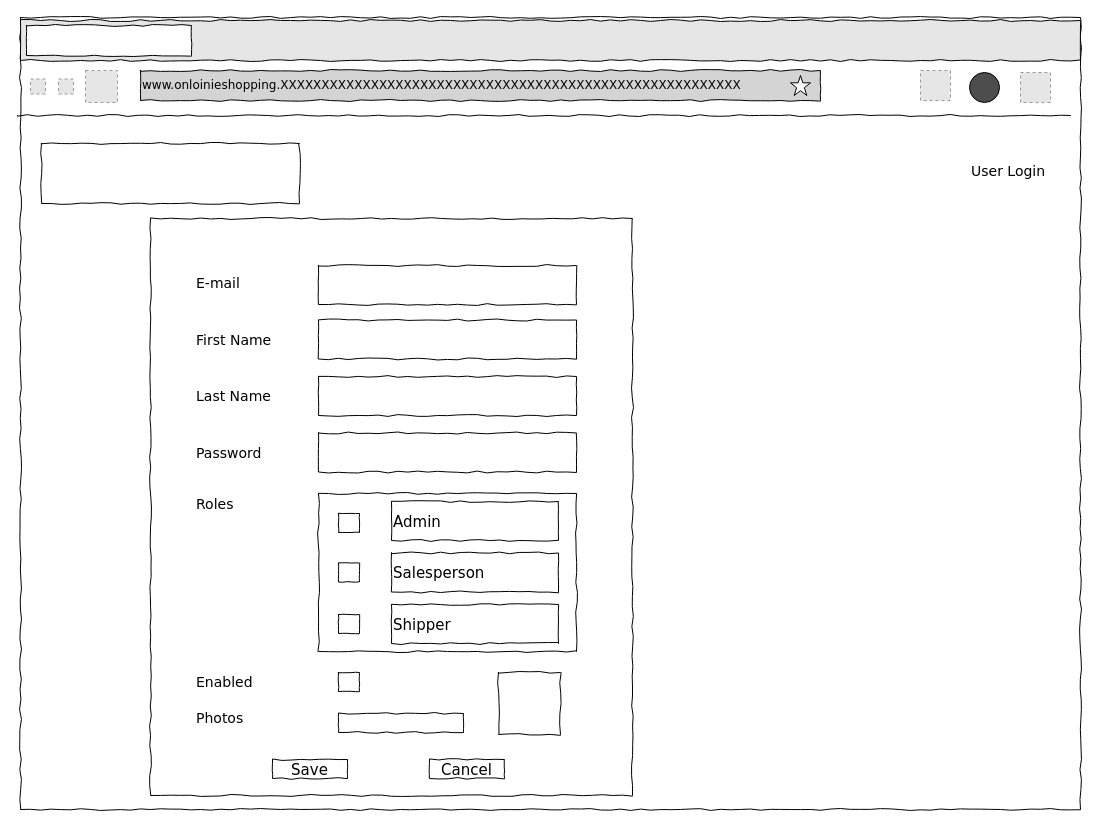
The diagram is 1098 pixels wide and 827 high, and some of its shapes have lost their labels. Grey dashed boxes stand in for pictures. The centre of each missing label's shape, as x and y in pixels:
Browse pictures: (x=401, y=722)
Create Users: (x=170, y=173)
Photo: (x=529, y=703)
